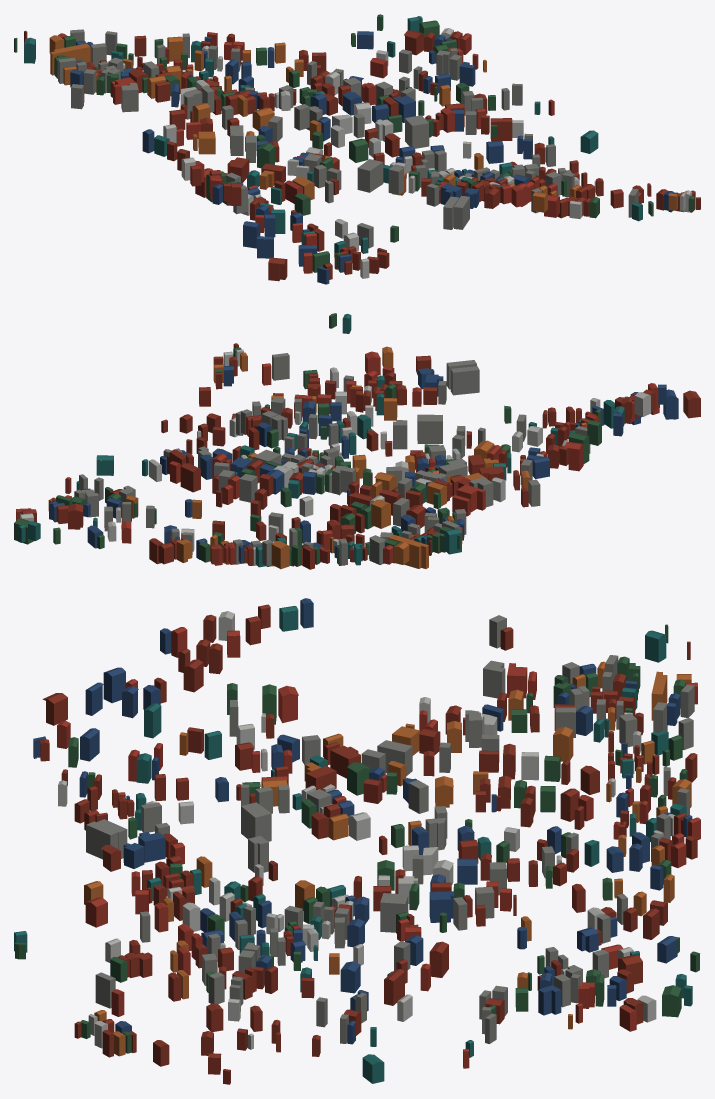
Rendered from near-16-54718-29743.eec26ef0.glb.
The picture shows the model from 3 angles, top to bottom: view 1: azimuth 30°, elevation 25°; view 2: azimuth 150°, elevation 25°; view 3: azimuth 270°, elevation 25°; orthographic projection. The views are drawn at different scales.
Size of the model in its own units: 600 by 186 by 591.
